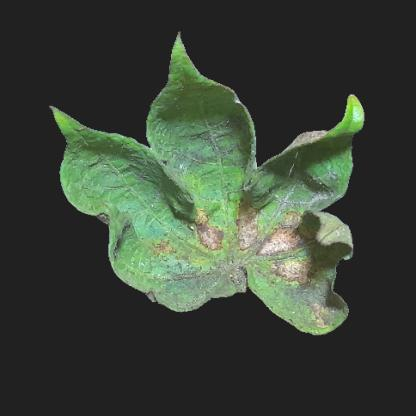curl_stage2: (72, 161, 140, 212)
sooty: (175, 197, 305, 299), (176, 117, 237, 171), (295, 265, 333, 328), (137, 230, 171, 298), (278, 175, 337, 213)
